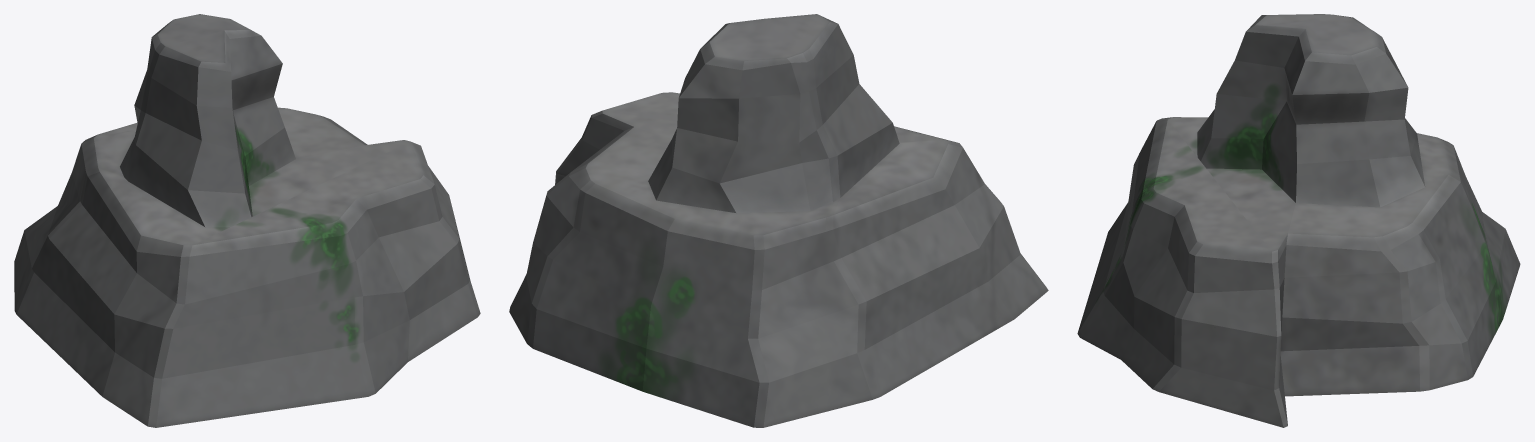
File: batu 11.fbx
3 views of the same model, side by side, from view 1: azimuth 30°, elevation 25°; view 2: azimuth 150°, elevation 25°; view 3: azimuth 270°, elevation 25° (orthographic). The views are drawn at different scales.
Visible parts, largest first — view 1: batu11; view 2: batu11; view 3: batu11.
Boxes of the visible parts, <box> form: batu11: <box>14,14,480,427</box>; batu11: <box>509,14,1048,427</box>; batu11: <box>1077,14,1520,427</box>.
Bounding box in the file's own units: 407 × 280 × 388.
